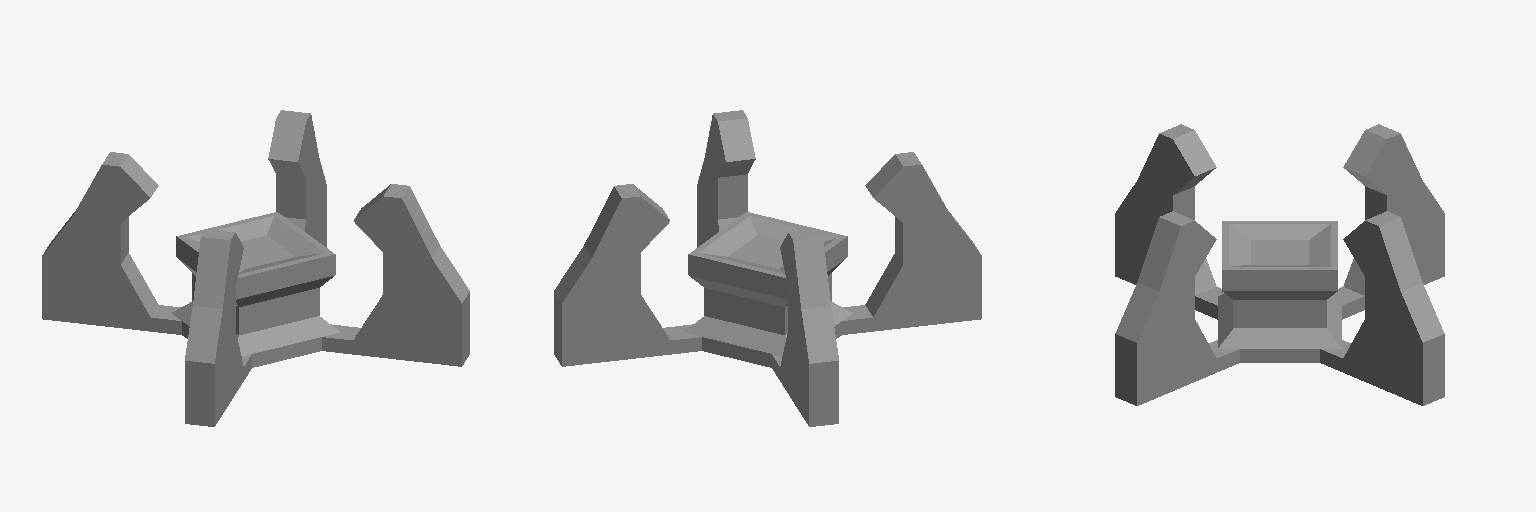
The model's file is altar.obj.
The picture shows the model from 3 angles: view 1: azimuth 30°, elevation 25°; view 2: azimuth 150°, elevation 25°; view 3: azimuth 270°, elevation 25°; orthographic projection.
Visible parts, largest first — view 1: Cube.001, Cube; view 2: Cube.001, Cube; view 3: Cube.001, Cube.
Part boxes in pixels (x1,y1,x2,y2): Cube.001: (42, 110, 469, 426); Cube: (172, 212, 339, 367); Cube.001: (554, 110, 981, 426); Cube: (684, 212, 851, 367); Cube.001: (1115, 124, 1444, 405); Cube: (1218, 221, 1341, 362).
Size of the model in its own units: 2.65 by 1.44 by 2.65.